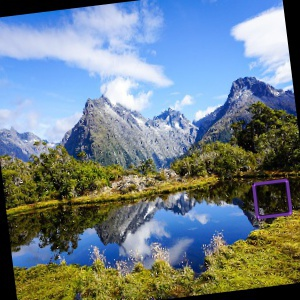square: (249, 177, 294, 220)
